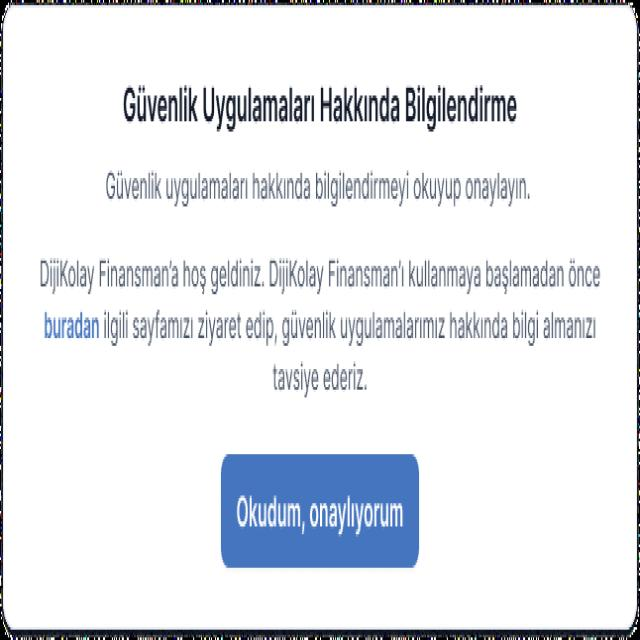QLabel: (34, 244, 606, 294), (103, 165, 535, 216), (102, 305, 599, 347), (119, 80, 520, 130), (233, 481, 406, 547), (270, 362, 368, 402), (42, 309, 100, 343)
VBtn: (220, 450, 420, 567)
VCard: (2, 2, 639, 634)
